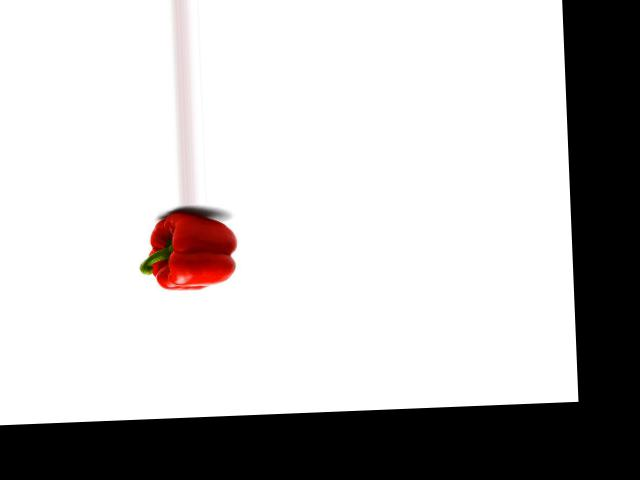bell_pepper: (132, 210, 246, 291)
